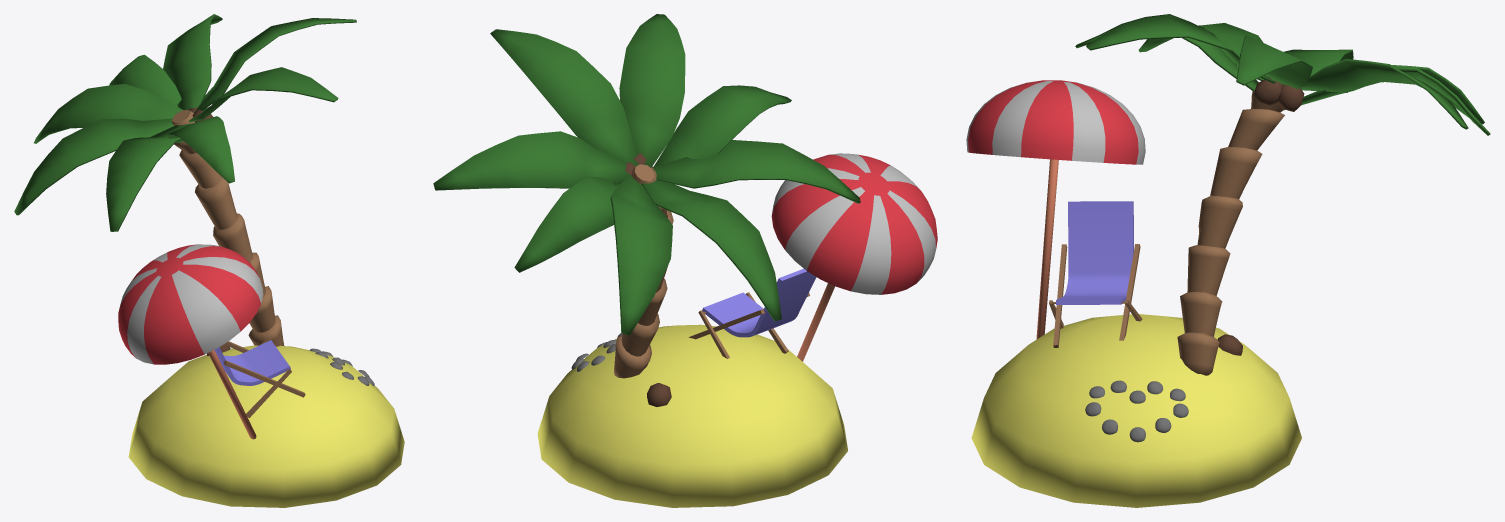
File: IslaTropical.fbx
The picture shows the model from 3 angles, left to right: view 1: azimuth 30°, elevation 25°; view 2: azimuth 150°, elevation 25°; view 3: azimuth 270°, elevation 25°; orthographic projection. The views are drawn at different scales.
Visible parts, largest first — view 1: Sultry Reef; view 2: Sultry Reef; view 3: Sultry Reef.
Boxes of the visible parts, x1=… form: Sultry Reef: x1=14, y1=14, x2=404, y2=507; Sultry Reef: x1=433, y1=14, x2=937, y2=507; Sultry Reef: x1=966, y1=14, x2=1490, y2=507.
Size of the model in its own units: 327 by 378 by 407.
